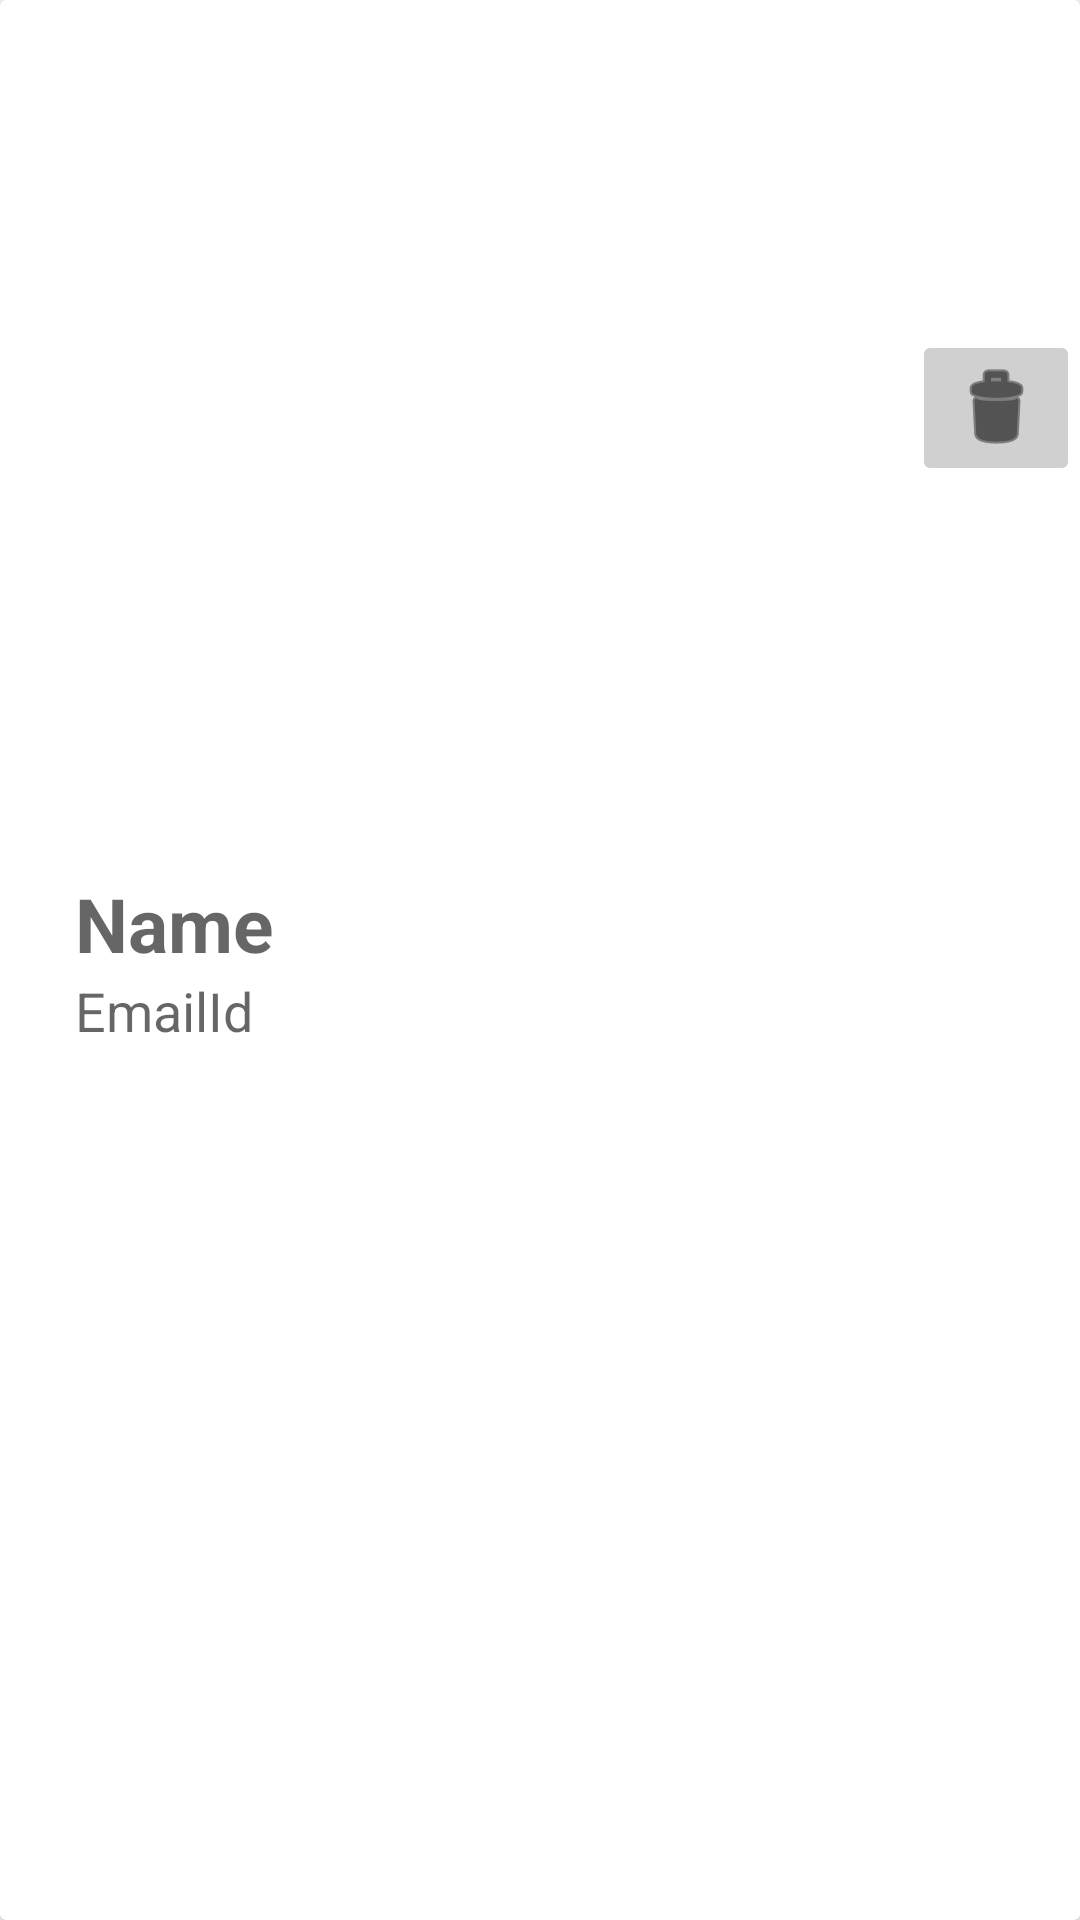

Screen size 1080px×1920px. Icon name, then its center in pixels as (x=x, y=y):
delete: (x=996, y=408)
